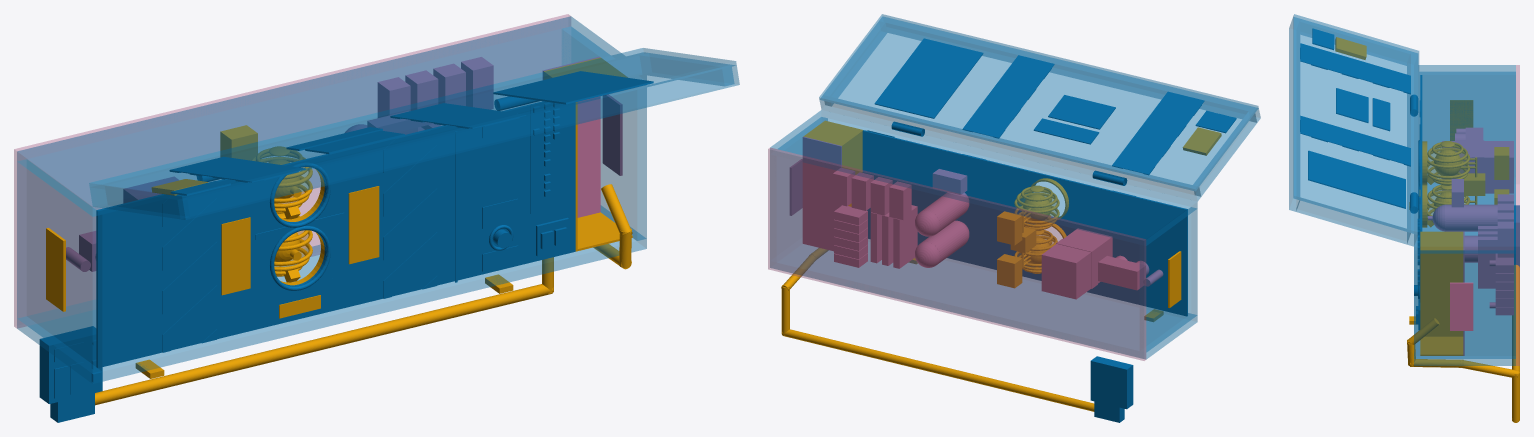
File: c204_A2_ouvert_interne_disposition_I2.obj
The picture shows the model from 3 angles, left to right: view 1: azimuth 30°, elevation 25°; view 2: azimuth 150°, elevation 25°; view 3: azimuth 270°, elevation 25°; orthographic projection. The views are drawn at different scales.
Visible parts, largest first — view 1: A2-003_Corps___paroi_arrière, A2-001_Corps___fond, A2-012_Couvercle___dessus, A2-004_Corps___paroi_d_extrémité_gauche, A2-013_Couvercle___rebord_avant, A2-002_Corps___paroi_avant, A2-005_Corps___paroi_d_extrémité_droite, A2-014_Couvercle___rebord_arrière, A2-104_Cordon_spiralé___tronçon_1, A2-034_Platine___zone_tramée_gauche__a_, A2-061_Platine___zone_4__support_de_l_écran_de_secours_, A2-063_Panneau_5___fond_blanc (+42 smaller); view 2: A2-001_Corps___fond, A2-012_Couvercle___dessus, A2-003_Corps___paroi_arrière, A2-002_Corps___paroi_avant, A2-004_Corps___paroi_d_extrémité_gauche, A2-014_Couvercle___rebord_arrière, A2-029_Plaque_d_instructions_de_commande__7_, A2-013_Couvercle___rebord_avant, A2-092_Rangement_9___fond, A2-005_Corps___paroi_d_extrémité_droite, A2-017_Couvercle___bande_de_danger_n_1__fond_, A2-023_Couvercle___bande_de_danger_n_2__fond_ (+41 smaller); view 3: A2-012_Couvercle___dessus, A2-003_Corps___paroi_arrière, A2-005_Corps___paroi_d_extrémité_droite, A2-004_Corps___paroi_d_extrémité_gauche, A2-002_Corps___paroi_avant, A2-093_Rangement_9___cloison_gauche, A2-029_Plaque_d_instructions_de_commande__7_, A2-013_Couvercle___rebord_avant, A2-017_Couvercle___bande_de_danger_n_1__fond_, A2-023_Couvercle___bande_de_danger_n_2__fond_, A2-014_Couvercle___rebord_arrière, A2-016_Couvercle___rebord_droit (+33 smaller).
Boxes of the visible parts, x1,y1,x2,y2 form: A2-003_Corps___paroi_arrière: (17,16,646,216); A2-001_Corps___fond: (14,14,570,328); A2-012_Couvercle___dessus: (89,48,736,200); A2-004_Corps___paroi_d_extrémité_gauche: (17,160,101,373); A2-013_Couvercle___rebord_avant: (177,65,739,219); A2-002_Corps___paroi_avant: (17,206,646,383); A2-005_Corps___paroi_d_extrémité_droite: (562,27,646,240); A2-014_Couvercle___rebord_arrière: (90,52,646,207); A2-104_Cordon_spiralé___tronçon_1: (95,284,553,405); A2-034_Platine___zone_tramée_gauche__a_: (96,202,131,367); A2-061_Platine___zone_4__support_de_l_écran_de_secours_: (436,125,475,285); A2-063_Panneau_5___fond_blanc: (475,106,525,275); A2-001_Corps___fond: (768,148,1145,360); A2-012_Couvercle___dessus: (819,14,1258,191); A2-003_Corps___paroi_arrière: (770,110,1197,245); A2-002_Corps___paroi_avant: (770,239,1197,359); A2-004_Corps___paroi_d_extrémité_gauche: (1140,207,1197,352); A2-014_Couvercle___rebord_arrière: (819,95,1200,201); A2-029_Plaque_d_instructions_de_commande__7_: (874,38,983,118); A2-013_Couvercle___rebord_avant: (879,17,1260,122); A2-092_Rangement_9___fond: (802,136,841,251); A2-005_Corps___paroi_d_extrémité_droite: (770,117,827,260); A2-017_Couvercle___bande_de_danger_n_1__fond_: (1112,91,1204,174); A2-023_Couvercle___bande_de_danger_n_2__fond_: (963,55,1054,137); A2-012_Couvercle___dessus: (1293,14,1418,234); A2-003_Corps___paroi_arrière: (1414,65,1515,253); A2-005_Corps___paroi_d_extrémité_droite: (1414,250,1515,358); A2-004_Corps___paroi_d_extrémité_gauche: (1419,72,1515,177); A2-002_Corps___paroi_avant: (1414,180,1515,365); A2-093_Rangement_9___cloison_gauche: (1420,231,1463,336); A2-029_Plaque_d_instructions_de_commande__7_: (1308,151,1405,208); A2-013_Couvercle___rebord_avant: (1289,17,1299,211); A2-017_Couvercle___bande_de_danger_n_1__fond_: (1300,43,1410,93); A2-023_Couvercle___bande_de_danger_n_2__fond_: (1300,116,1410,165); A2-014_Couvercle___rebord_arrière: (1407,51,1417,246); A2-016_Couvercle___rebord_droit: (1296,198,1410,244).
Size of the model in its own units: 0.858 by 0.5175 by 0.4563.
